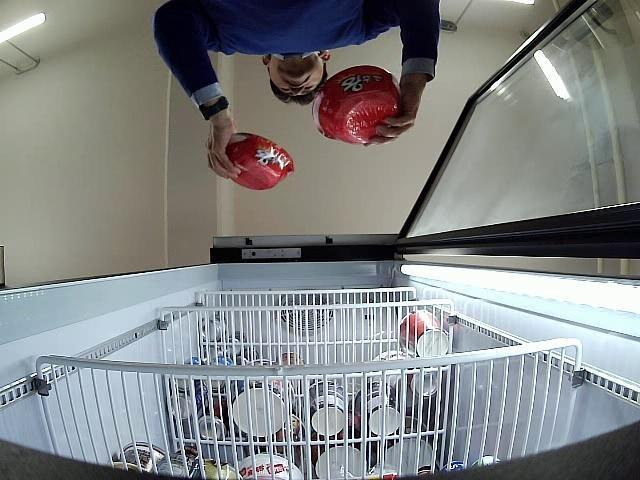10_wangTtukkeong: (312, 66, 400, 143), (226, 132, 296, 191)
